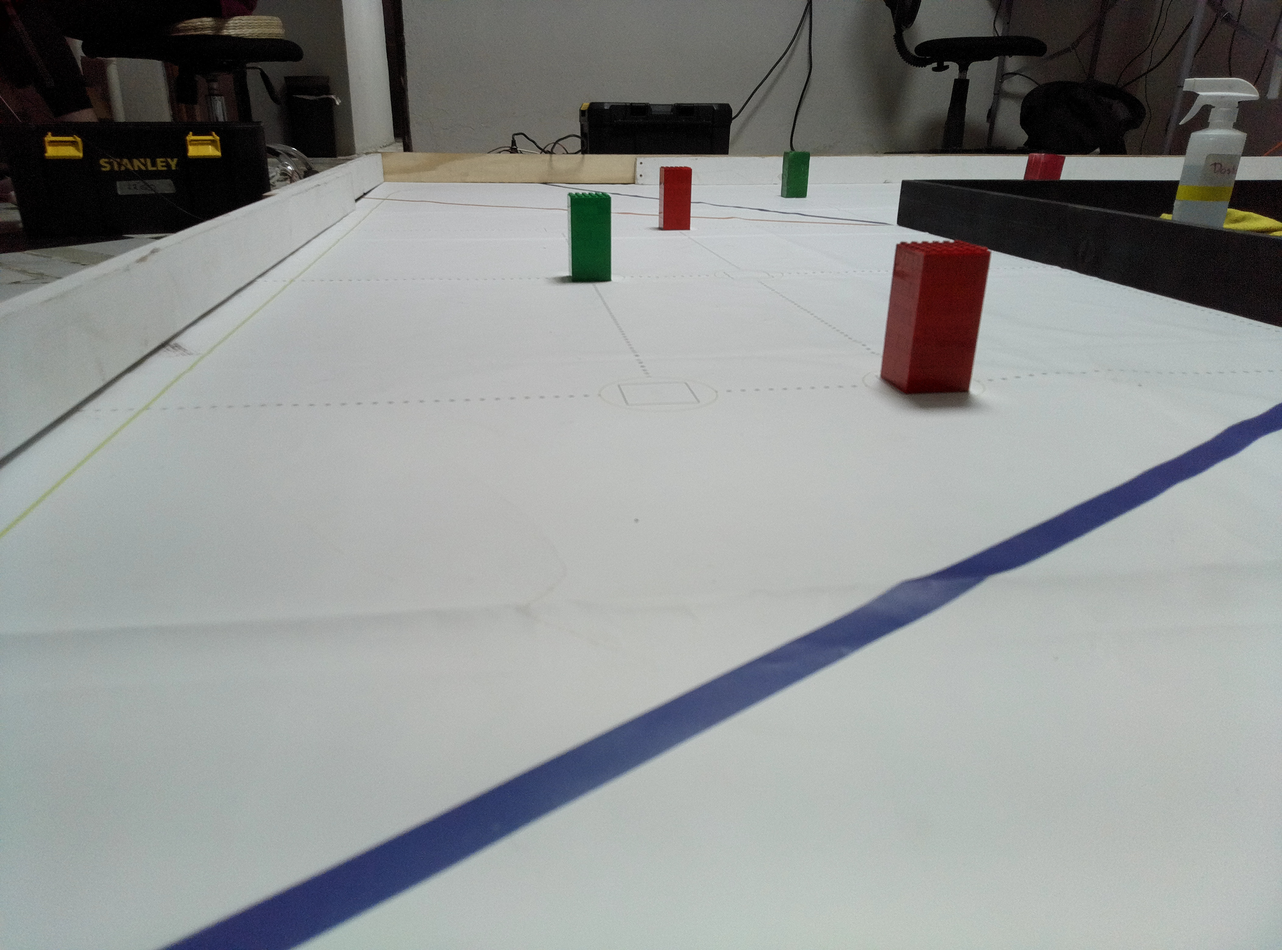greenbox: (567, 192, 612, 282), (780, 151, 811, 200)
redbox: (877, 239, 994, 397), (658, 165, 693, 231), (1023, 153, 1067, 180)
